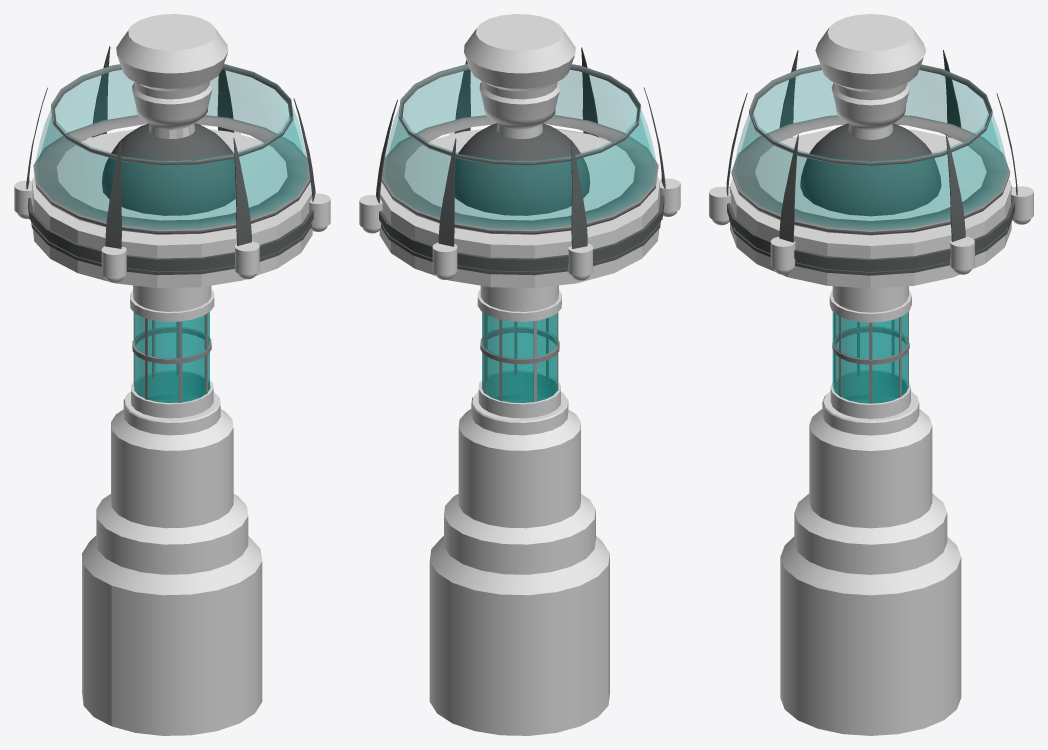
The model's file is DomeBuildingWithUV.fbx.
3 views of the same model, side by side, from view 1: azimuth 30°, elevation 25°; view 2: azimuth 150°, elevation 25°; view 3: azimuth 270°, elevation 25° (orthographic).
Parts seen in each view (by area): view 1: pCylinder1, pCylinder6, pasted__pCylinder3, pSphere1, pasted__pCylinder6, pCylinder7, pCylinder4, pasted__pasted__pCylinder6, pasted__pasted__pasted__pasted__pasted__pasted__pCube2 (×2), pasted__pasted__pasted__pasted__pasted__pasted__pasted__past (×2), pCylinder2, pasted__pasted__pasted__pasted__pCylinder5 (+3 smaller); view 2: pCylinder1, pCylinder6, pasted__pCylinder3, pSphere1, pasted__pCylinder6, pCylinder7, pCylinder4, pasted__pasted__pCylinder6, pasted__pasted__pasted__pCube2, pasted__pasted__pasted__pasted__pasted__pasted__pasted__pCub, pCylinder2, pasted__pasted__pasted__pasted__pasted__pasted__pCylinder5 (+5 smaller); view 3: pCylinder1, pCylinder6, pasted__pCylinder3, pSphere1, pasted__pCylinder6, pCylinder7, pCylinder4, pasted__pasted__pCylinder6, pasted__pasted__pasted__pasted__pCube2, pasted__pasted__pasted__pasted__pasted__pCube2, pCylinder2, pasted__pasted__pasted__pasted__pasted__pCylinder5 (+5 smaller).
Boxes of the visible parts, x1,y1,x2,y2 form: pCylinder1: (82, 14, 262, 735); pCylinder6: (35, 64, 308, 229); pasted__pCylinder3: (32, 129, 312, 288); pSphere1: (102, 123, 235, 215); pasted__pCylinder6: (33, 115, 310, 234); pCylinder7: (134, 312, 209, 402); pCylinder4: (28, 188, 315, 275); pasted__pasted__pCylinder6: (51, 64, 293, 165); pasted__pasted__pasted__pasted__pasted__pasted__pCube2 (×2): (105, 137, 251, 248); pasted__pasted__pasted__pasted__pasted__pasted__pasted__past (×2): (101, 241, 259, 282); pCylinder2: (132, 327, 211, 364); pasted__pasted__pasted__pasted__pCylinder5: (309, 193, 330, 231); pCylinder1: (429, 14, 609, 735); pCylinder6: (383, 64, 656, 229); pasted__pCylinder3: (379, 128, 659, 288); pSphere1: (454, 123, 590, 215); pasted__pCylinder6: (381, 115, 658, 234); pCylinder7: (482, 312, 557, 402); pCylinder4: (379, 195, 664, 275); pasted__pasted__pCylinder6: (398, 64, 640, 165); pasted__pasted__pasted__pCube2: (571, 140, 587, 248); pasted__pasted__pasted__pasted__pasted__pasted__pasted__pCub: (438, 138, 456, 246); pCylinder2: (480, 327, 559, 364); pasted__pasted__pasted__pasted__pasted__pasted__pCylinder5: (432, 242, 457, 280); pCylinder1: (780, 14, 961, 735); pCylinder6: (733, 65, 1008, 229); pasted__pCylinder3: (730, 129, 1011, 288); pSphere1: (800, 123, 941, 216); pasted__pCylinder6: (731, 115, 1010, 235); pCylinder7: (832, 311, 908, 403); pCylinder4: (727, 180, 1014, 275); pasted__pasted__pCylinder6: (749, 64, 992, 165); pasted__pasted__pasted__pasted__pCube2: (779, 134, 798, 242); pasted__pasted__pasted__pasted__pasted__pCube2: (945, 134, 965, 241); pCylinder2: (832, 326, 909, 364); pasted__pasted__pasted__pasted__pasted__pCylinder5: (950, 236, 974, 274).
Size of the model in its own units: 11.49 by 28.92 by 12.8.
